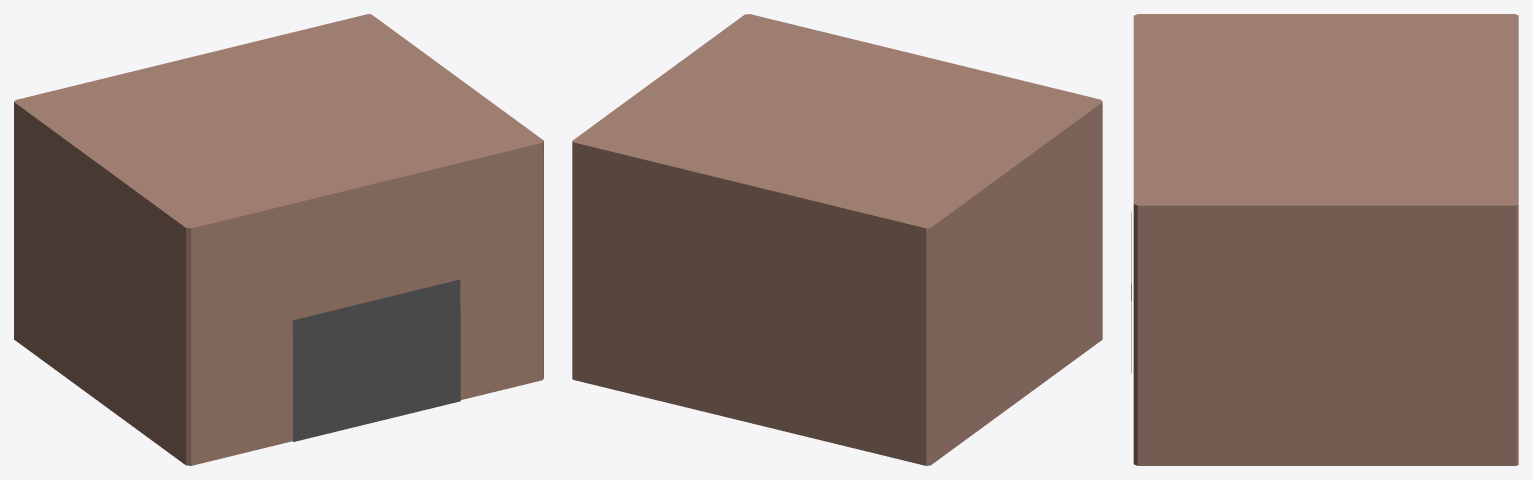
File: loin-etape-1.glb
3 renders of one model, left to right at view 1: azimuth 30°, elevation 25°; view 2: azimuth 150°, elevation 25°; view 3: azimuth 270°, elevation 25°, orthographic. The views are drawn at different scales.
Parts seen in each view (by area): view 1: loin; view 2: loin; view 3: loin.
Part boxes in pixels (left/top/right/bottom): loin: left=14, top=14, right=543, bottom=465; loin: left=572, top=14, right=1102, bottom=465; loin: left=1131, top=14, right=1518, bottom=465.
Size of the model in its own units: 0.7752 by 0.4915 by 0.6626.
